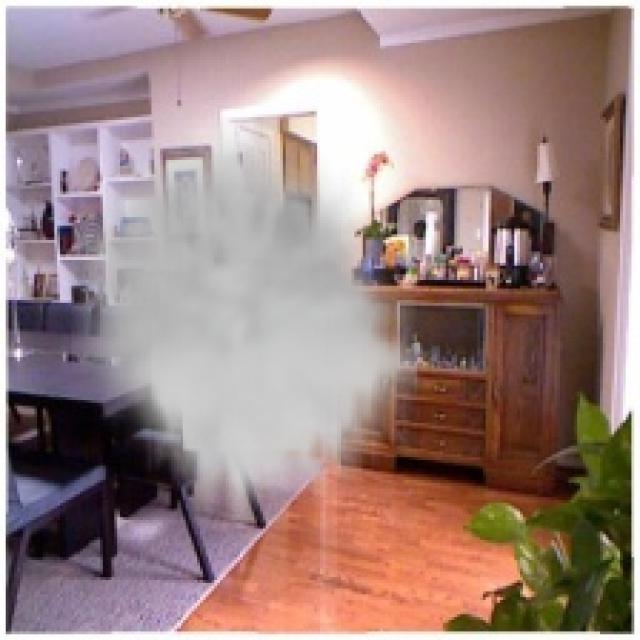smoke: (72, 117, 417, 529)
